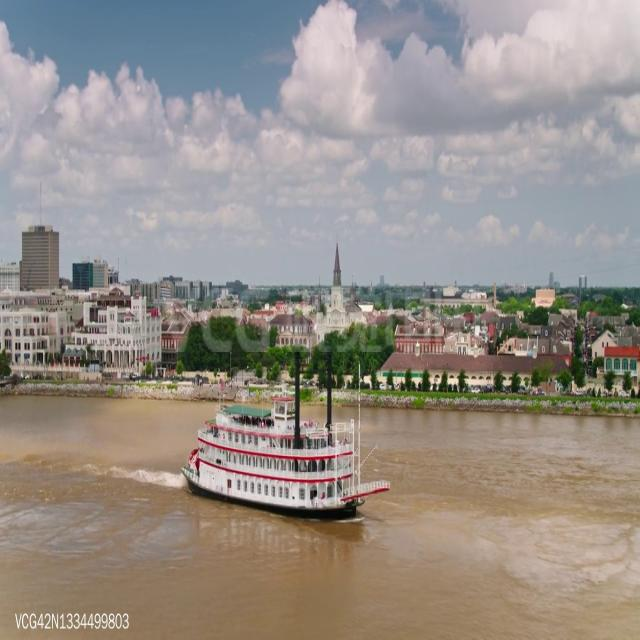passenger ship: (177, 392, 384, 526)
